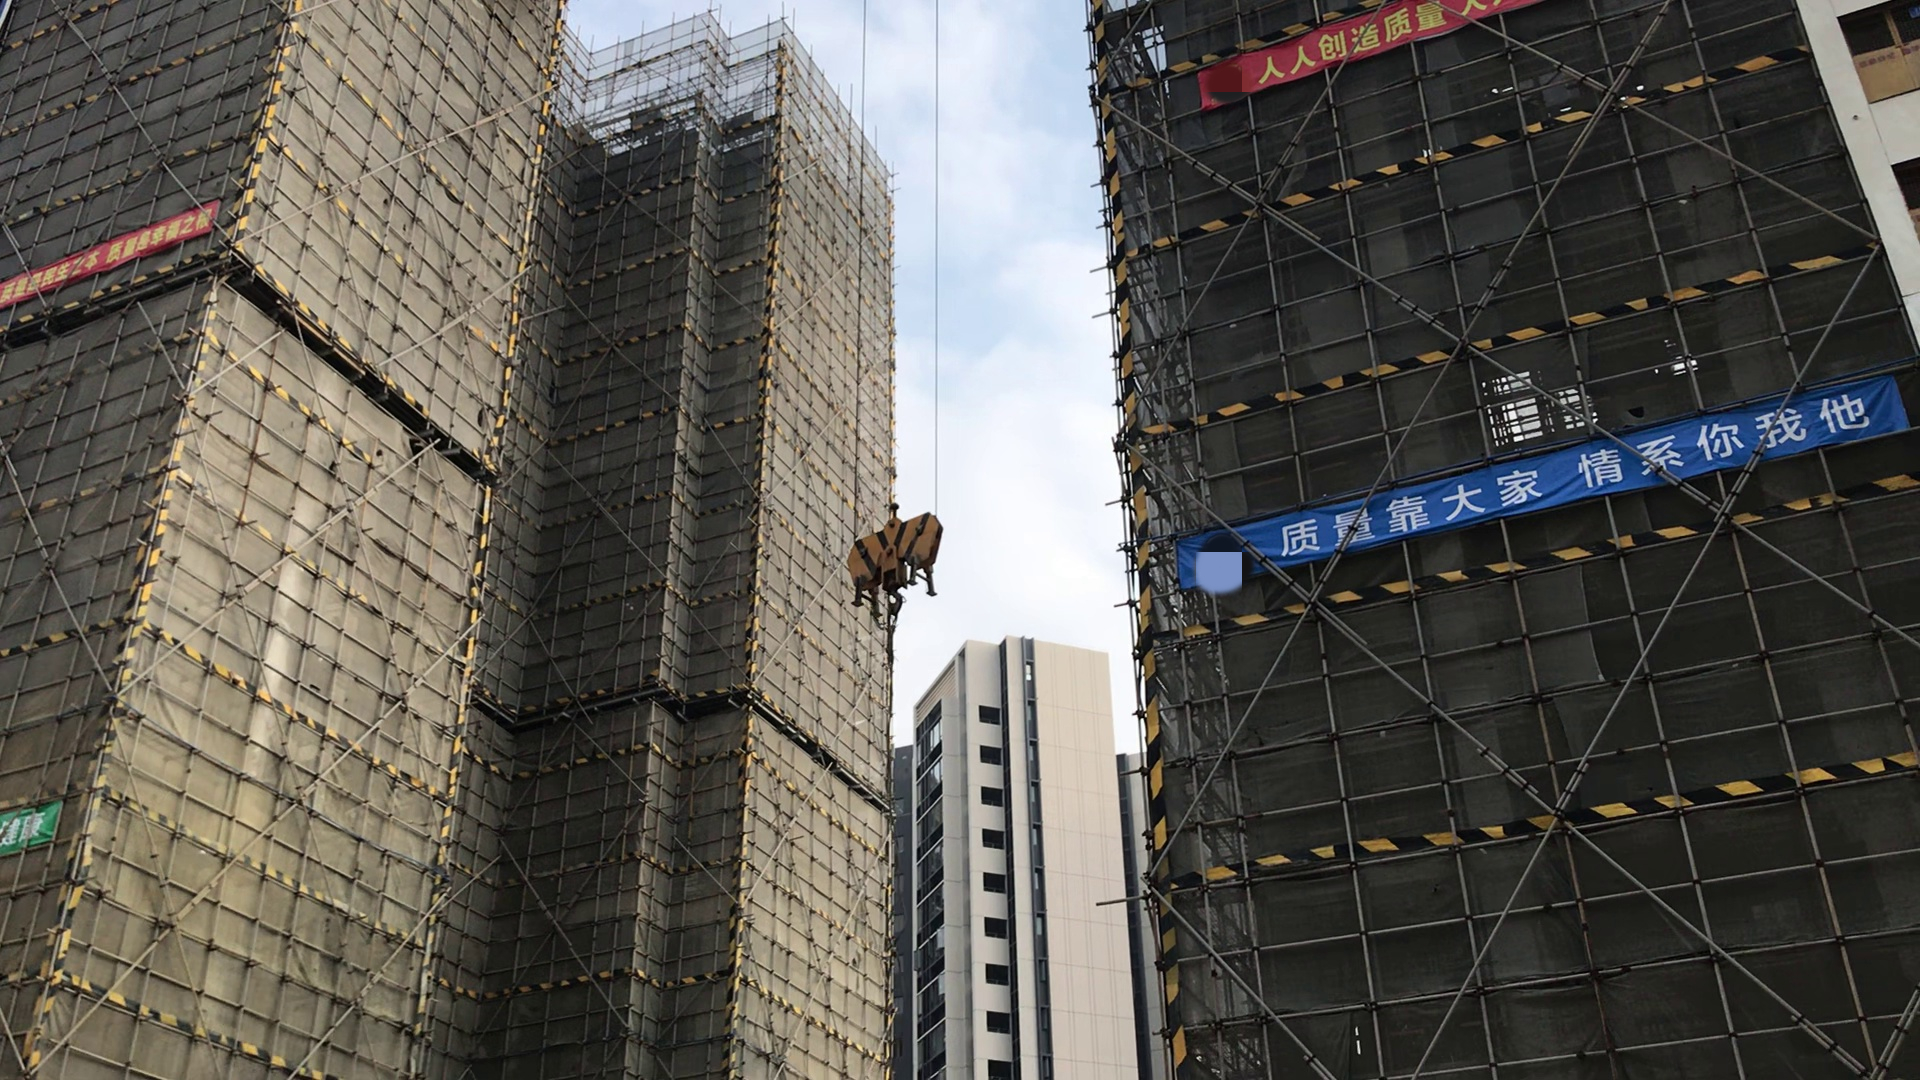hook: (844, 487, 948, 616)
slogan: (1249, 376, 1896, 575), (1211, 1, 1489, 116), (8, 171, 224, 301), (1, 802, 71, 855)
